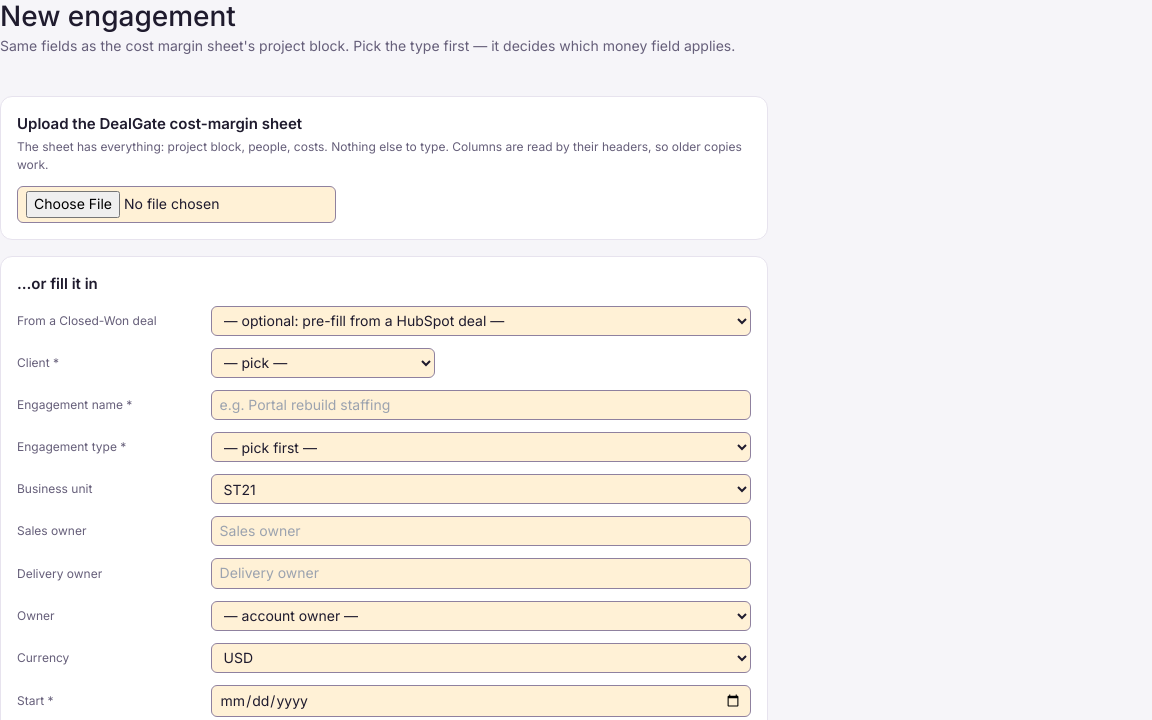
it: S22 · NewEngagementPage › lists the sheet's project-block fields, greys money fields by type and reports what is missing
The image size is (1152, 720).
Expected: the heading "New engagement" is shown, [0,0,236,33]
Step 1. Select "MSP" in the dropdown labelled "Engagement type *" → (481, 447), box [211,432,751,462]
(page scrolled)
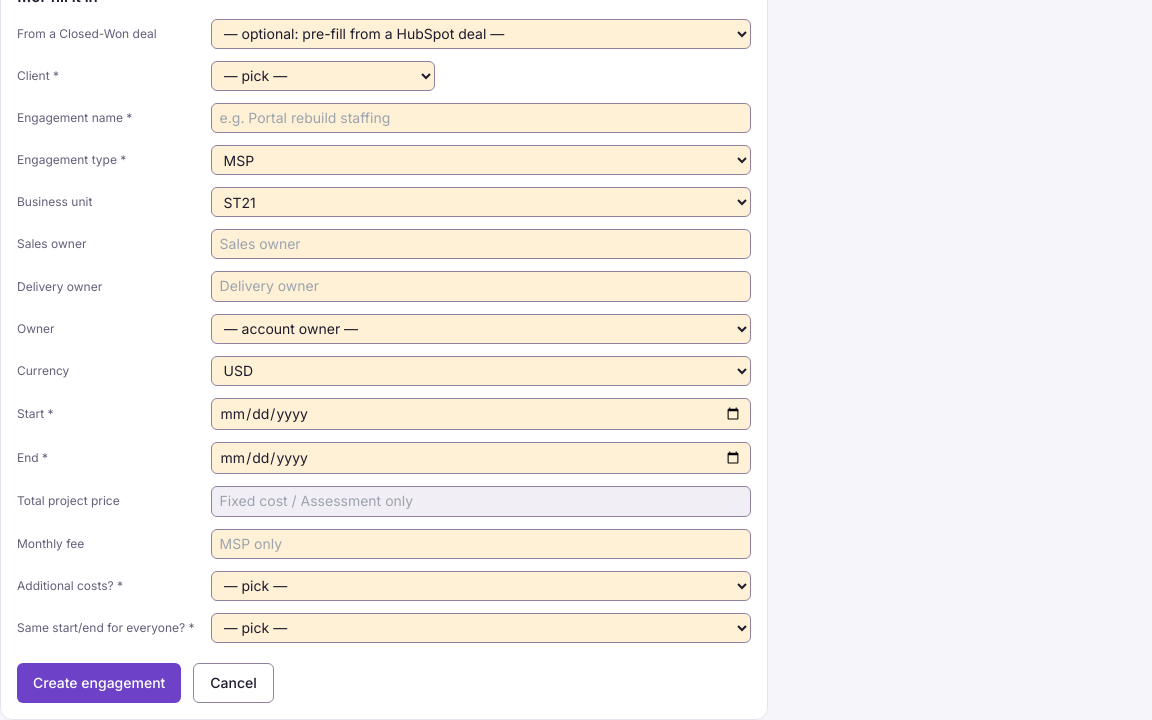
Expected: the number field labelled "Total project price" is disabled, [211,486,751,517]
Expected: the number field labelled "Monthly fee" is enabled, [211,529,751,559]
Step 2. Click the button "Create engagement" → (99, 683), box [17,663,181,703]
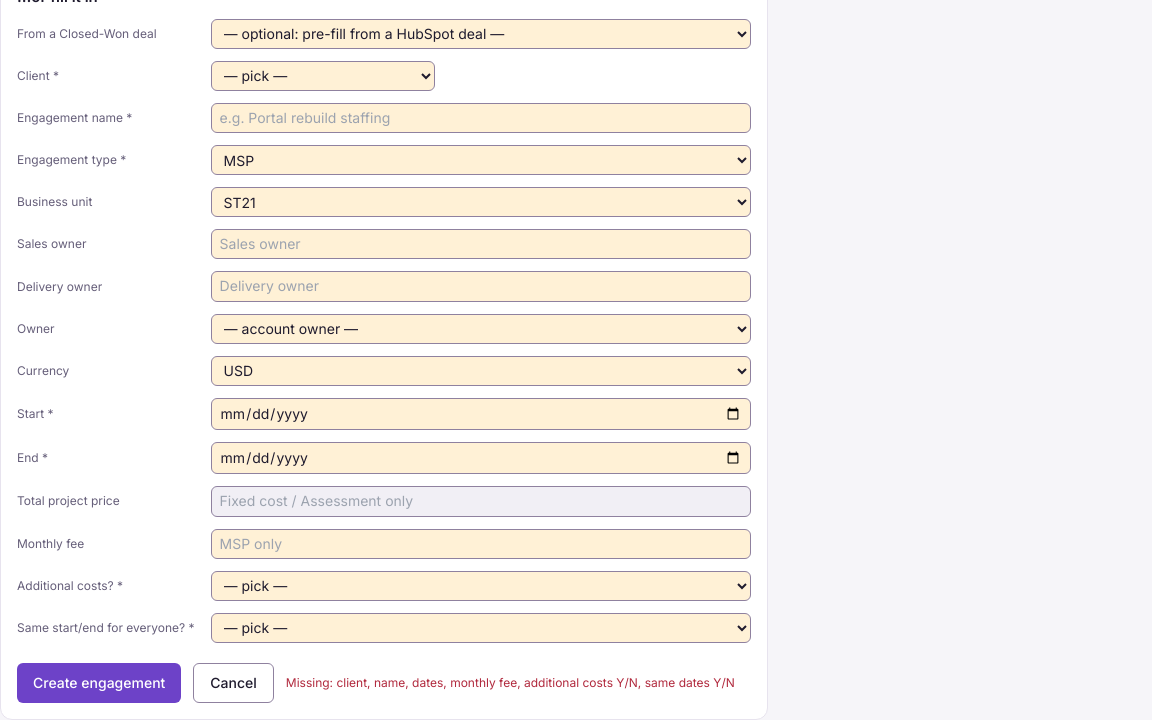
Expected: the message reads "Missing: client, name, dates, monthly fee, additional costs Y/N, same dates Y/N", [286,674,735,692]
